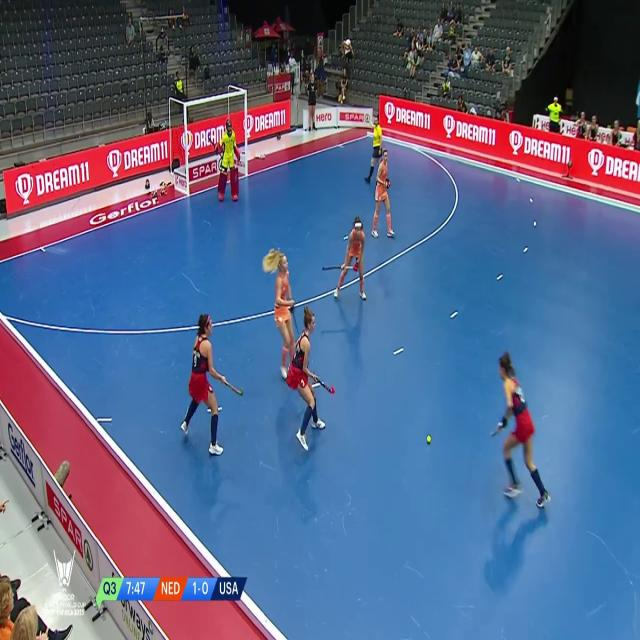ball: (422, 428, 432, 446)
